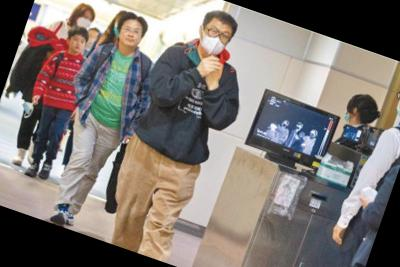with_mask: (197, 22, 234, 61), (72, 10, 95, 34)
without_mask: (114, 21, 147, 52), (67, 34, 89, 56)
